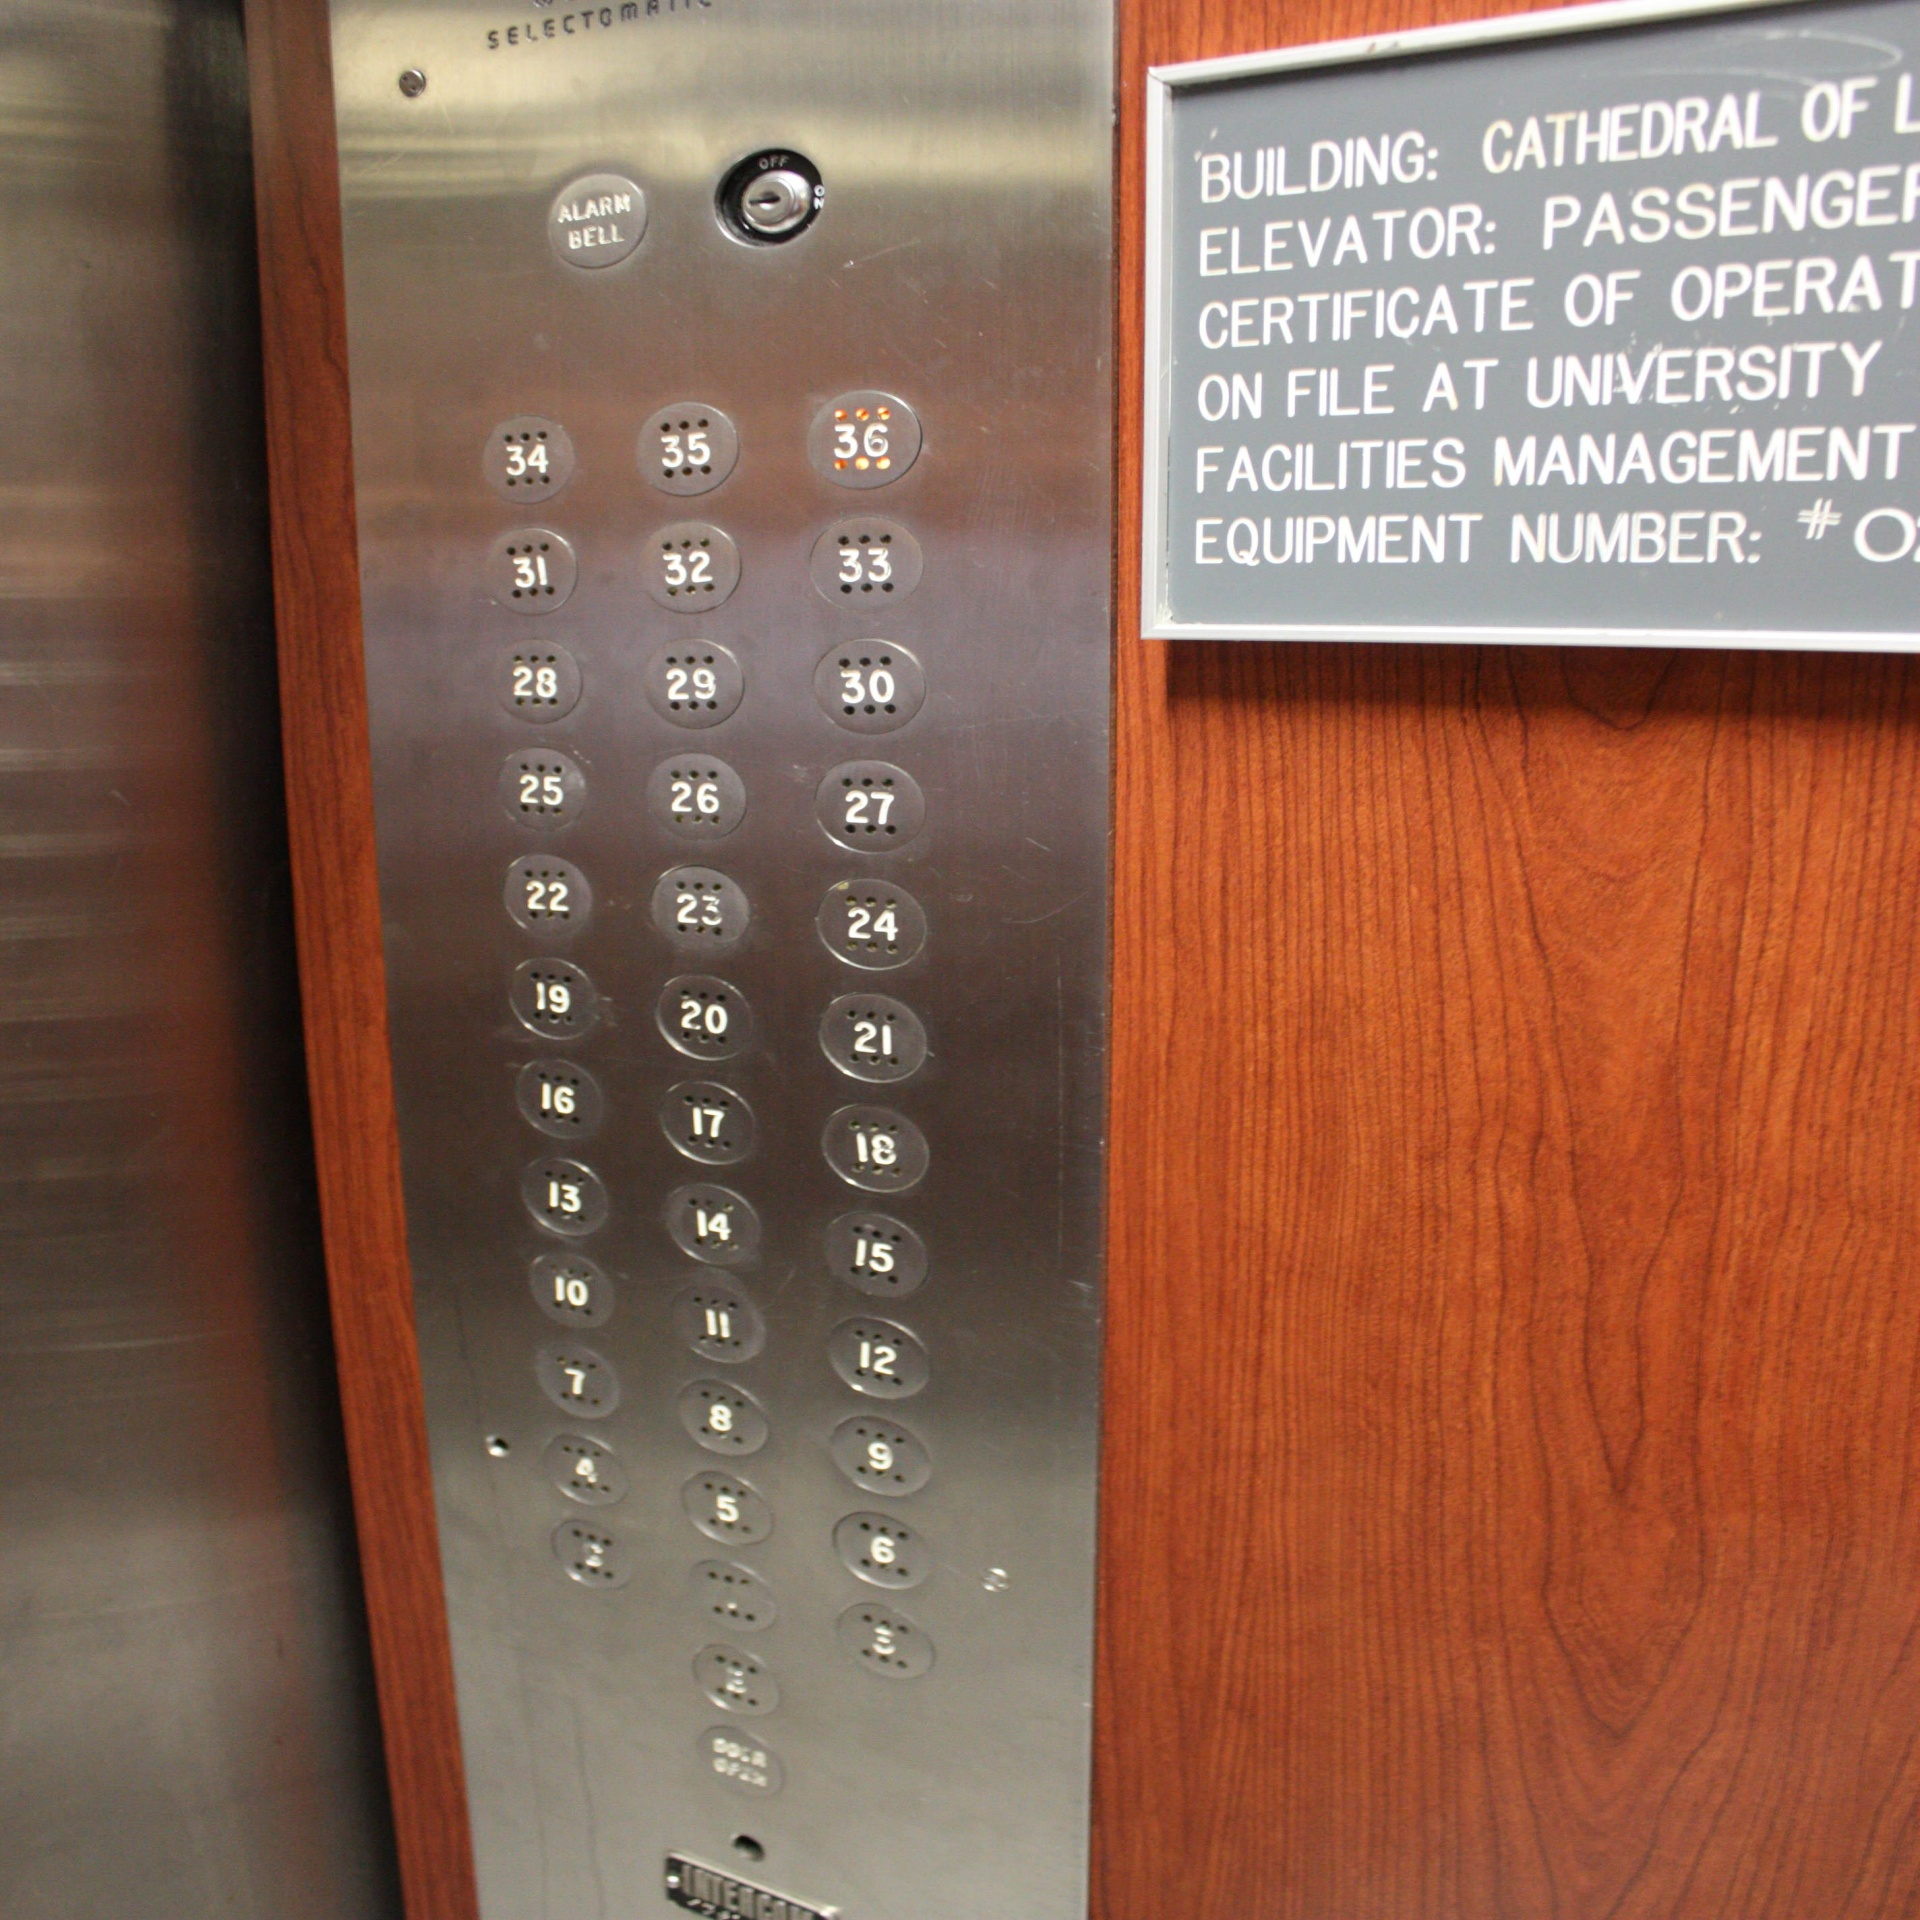10: (520, 1241, 621, 1333)
11: (659, 1278, 768, 1368)
12: (819, 1308, 937, 1407)
13: (517, 1153, 614, 1241)
14: (654, 1175, 767, 1275)
15: (818, 1210, 934, 1305)
16: (510, 1055, 607, 1139)
17: (654, 1073, 761, 1169)
18: (818, 1097, 934, 1199)
19: (501, 955, 603, 1044)
20: (649, 969, 756, 1064)
21: (814, 988, 932, 1087)
22: (496, 849, 596, 944)
23: (645, 856, 754, 958)
24: (812, 874, 930, 972)
25: (491, 744, 589, 835)
26: (640, 747, 753, 846)
27: (812, 754, 930, 856)
28: (485, 636, 587, 723)
29: (638, 631, 749, 733)
3: (828, 1596, 941, 1686)
30: (811, 635, 930, 738)
31: (478, 522, 582, 615)
32: (636, 517, 744, 621)
33: (805, 513, 925, 617)
34: (476, 411, 578, 505)
35: (633, 403, 737, 496)
36: (805, 389, 925, 487)
4: (540, 1426, 636, 1510)
5: (675, 1466, 774, 1551)
6: (826, 1505, 937, 1595)
7: (527, 1335, 624, 1421)
8: (670, 1371, 775, 1461)
9: (823, 1408, 934, 1498)
blur: (543, 1509, 642, 1593), (686, 1640, 779, 1721)
empty: (682, 1553, 777, 1637)
keyhole: (707, 146, 828, 257)
text_alarm bell: (542, 171, 654, 274)
text_door open: (689, 1718, 784, 1807)
